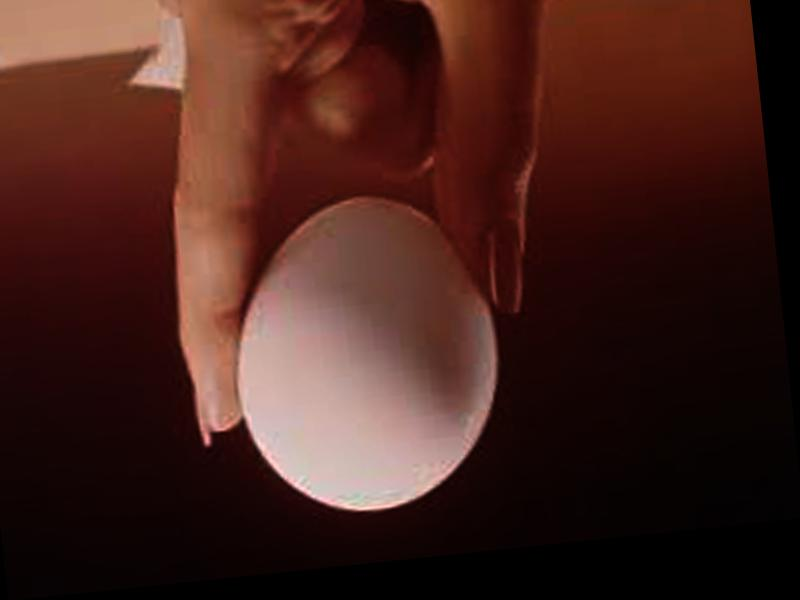Eggs: (219, 179, 517, 521)
